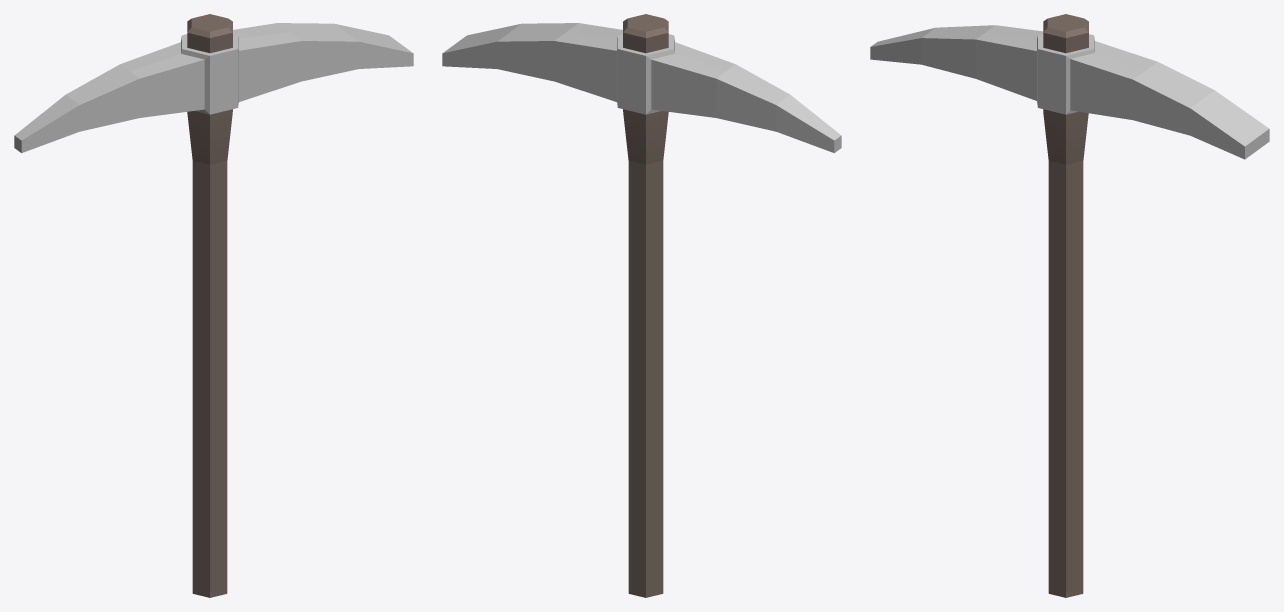
The model's file is PicaretaSeparada.fbx.
3 renders of one model, left to right at view 1: azimuth 30°, elevation 25°; view 2: azimuth 150°, elevation 25°; view 3: azimuth 330°, elevation 25°, orthographic.
Parts seen in each view (by area): view 1: polySurface15, polySurface16; view 2: polySurface15, polySurface16; view 3: polySurface15, polySurface16.
Part boxes in pixels (x1=…): polySurface15: x1=14, y1=23, x2=413, y2=153; polySurface16: x1=187, y1=14, x2=232, y2=597; polySurface15: x1=442, y1=23, x2=841, y2=153; polySurface16: x1=623, y1=14, x2=668, y2=597; polySurface15: x1=870, y1=25, x2=1269, y2=159; polySurface16: x1=1043, y1=14, x2=1088, y2=597.
Bounding box in the file's own units: 0.6843 × 0.9667 × 0.087.
